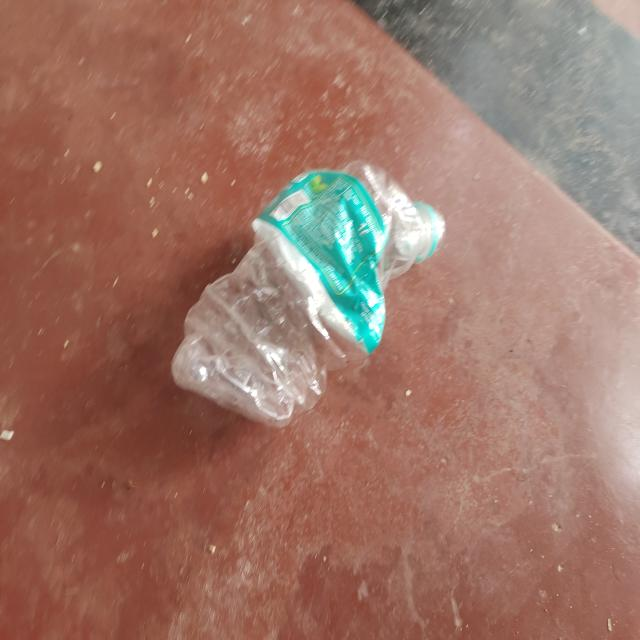plastic: (171, 157, 448, 430)
